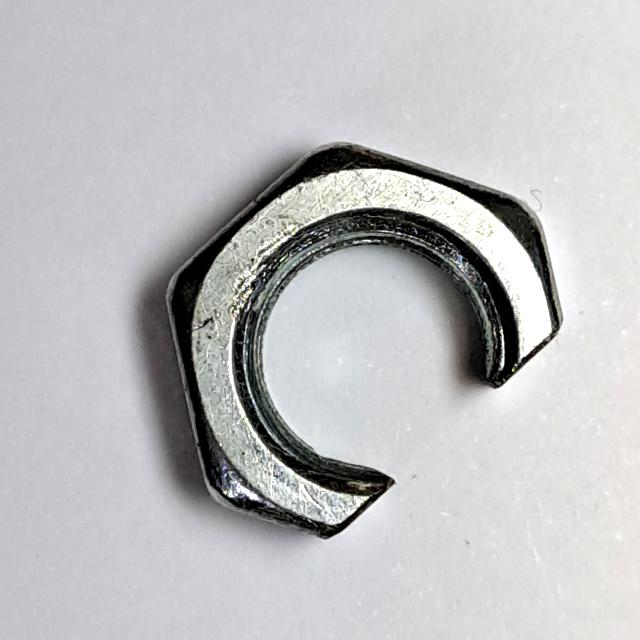Fracture: (149, 123, 575, 556)
